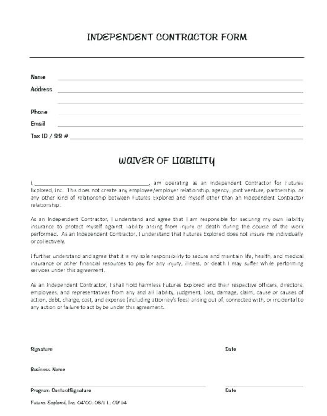textline: (55, 118, 307, 129), (54, 72, 307, 82), (68, 131, 307, 141), (54, 85, 307, 94), (55, 96, 307, 105), (56, 108, 308, 117), (30, 377, 207, 388), (34, 176, 151, 187), (224, 376, 304, 388)
